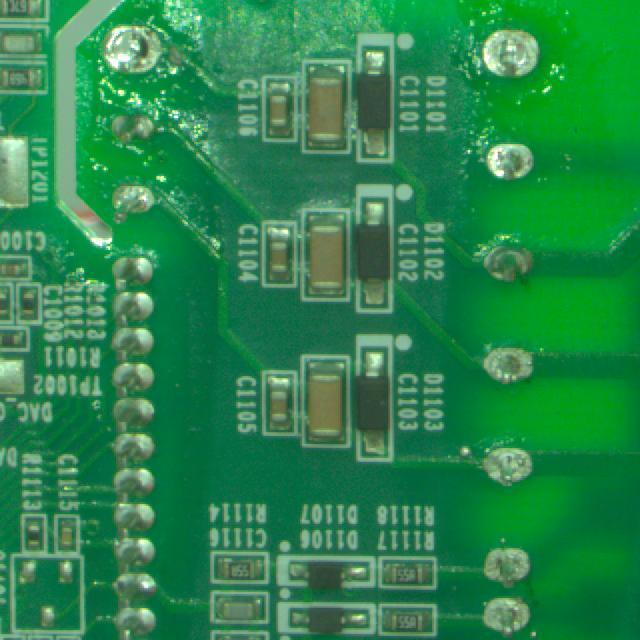Insufficient solder: (96, 15, 175, 81), (473, 23, 547, 91), (101, 180, 183, 234), (477, 443, 532, 510), (480, 336, 540, 397), (476, 596, 558, 640), (477, 542, 543, 588), (491, 132, 529, 193)
